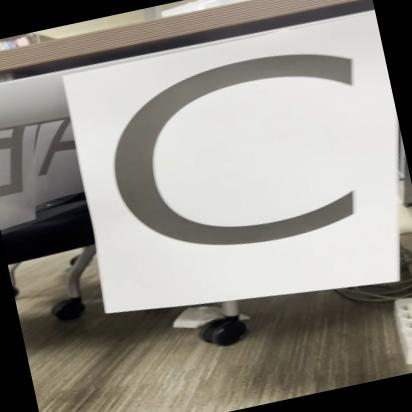seat: (68, 5, 412, 343)
